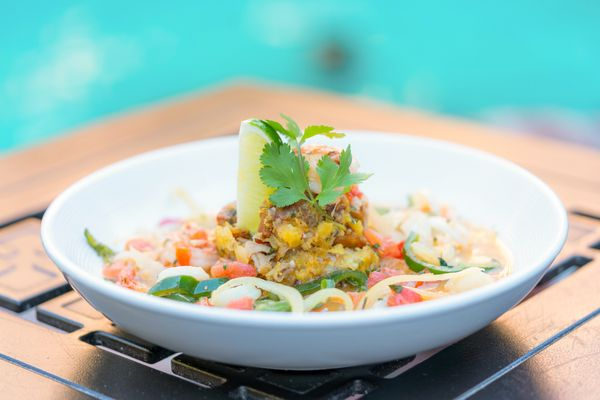sushi: (71, 117, 563, 372)
